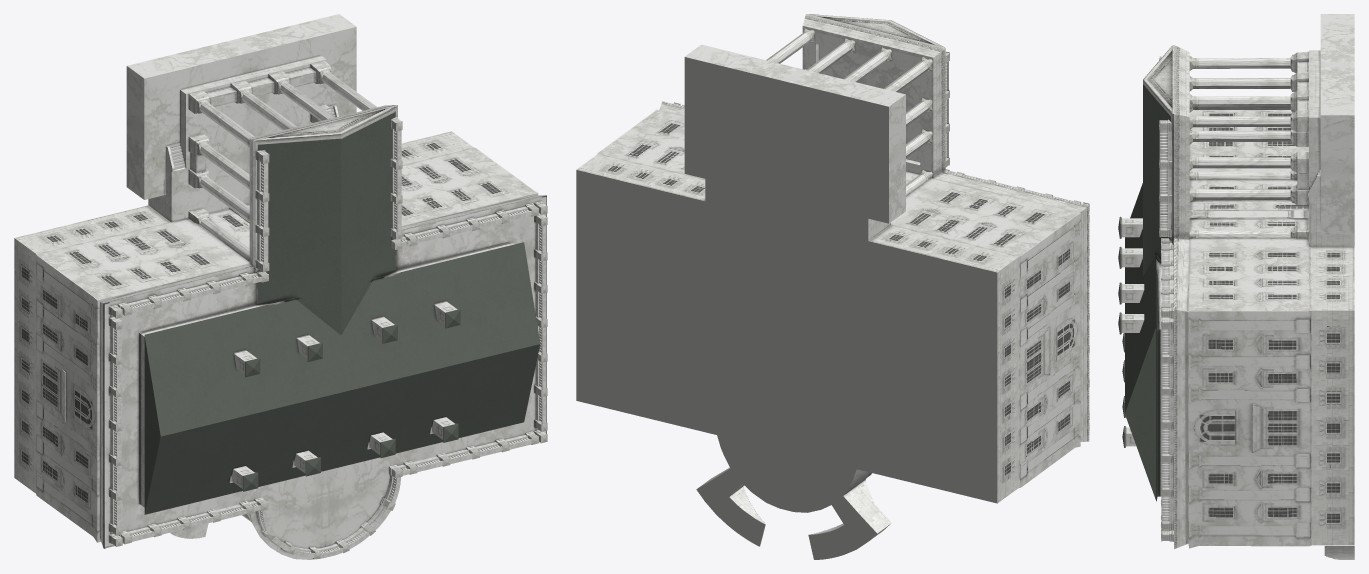
The model's file is 10090_white_house_v1_L1.obj.
The picture shows the model from 3 angles, left to right: view 1: azimuth 30°, elevation 25°; view 2: azimuth 150°, elevation 25°; view 3: azimuth 270°, elevation 25°; orthographic projection. The views are drawn at different scales.
Parts seen in each view (by area): view 1: 10090_white_house; view 2: 10090_white_house; view 3: 10090_white_house.
Boxes of the visible parts, <box> form: 10090_white_house: <box>14,14,547,559</box>; 10090_white_house: <box>576,14,1089,559</box>; 10090_white_house: <box>1118,14,1354,559</box>.
Size of the model in its own units: 5518 by 5824 by 2607.
1 material, 1 textured.
